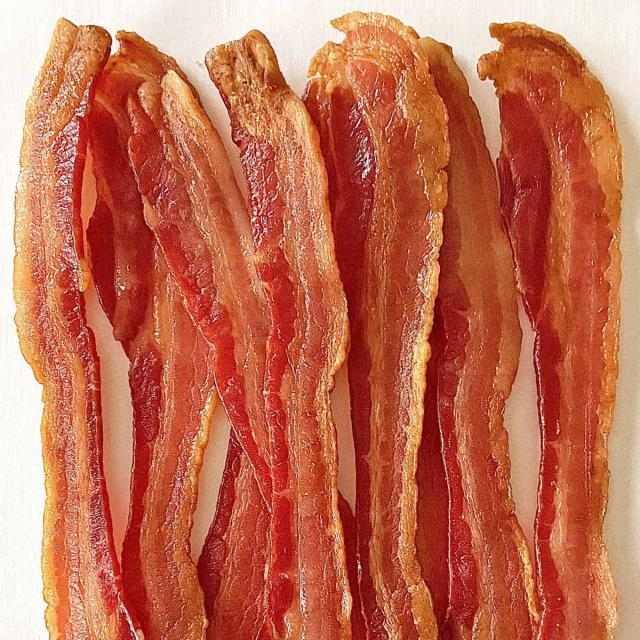Bacon: (305, 12, 449, 640), (206, 31, 352, 640), (479, 22, 622, 639), (14, 19, 145, 640), (88, 34, 215, 640), (416, 39, 536, 640), (128, 69, 275, 519)
